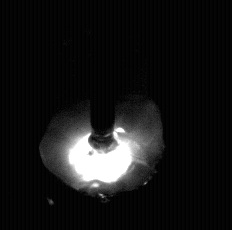arame: (90, 0, 116, 153)
poca: (39, 0, 163, 230)
